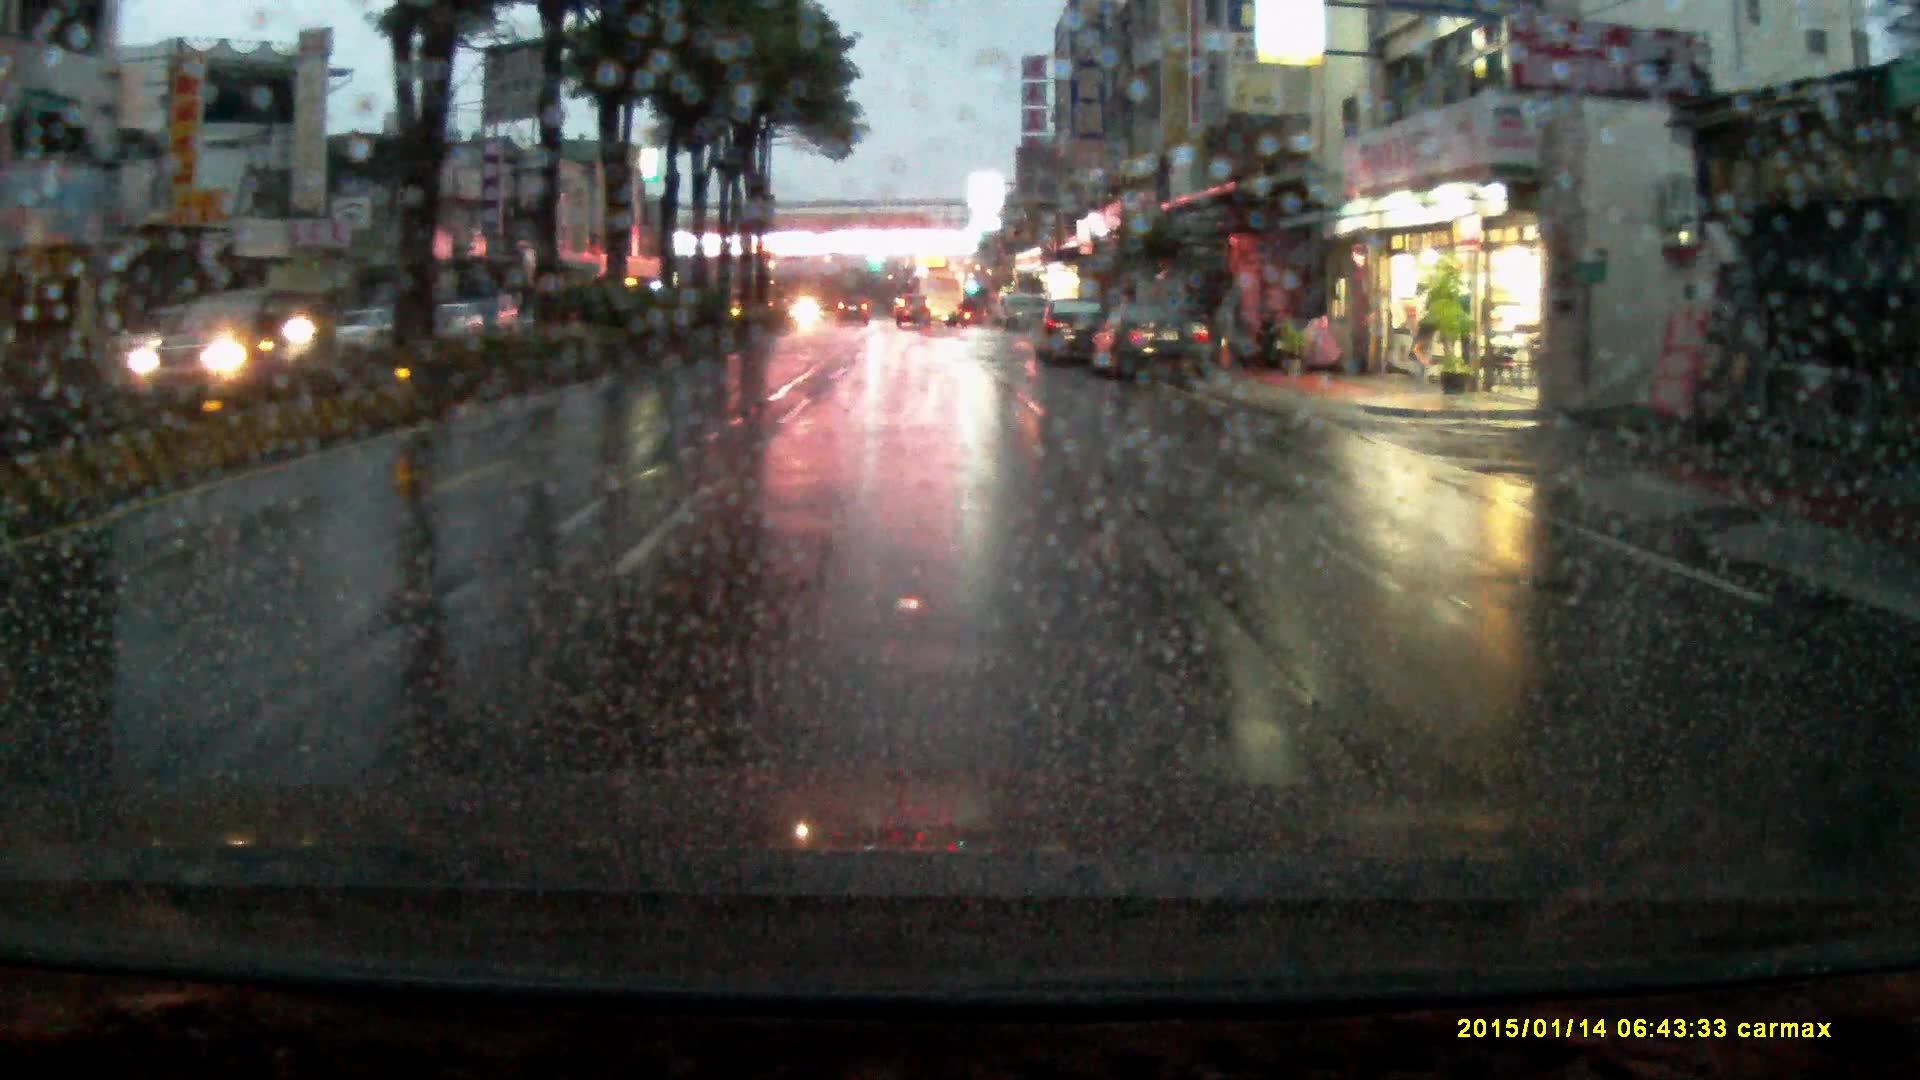rider: (271, 253, 361, 413)
vehicle: (116, 289, 301, 398), (1087, 299, 1214, 389), (1027, 296, 1108, 368), (108, 307, 197, 373), (908, 277, 964, 329), (895, 293, 931, 330), (837, 296, 871, 326)
